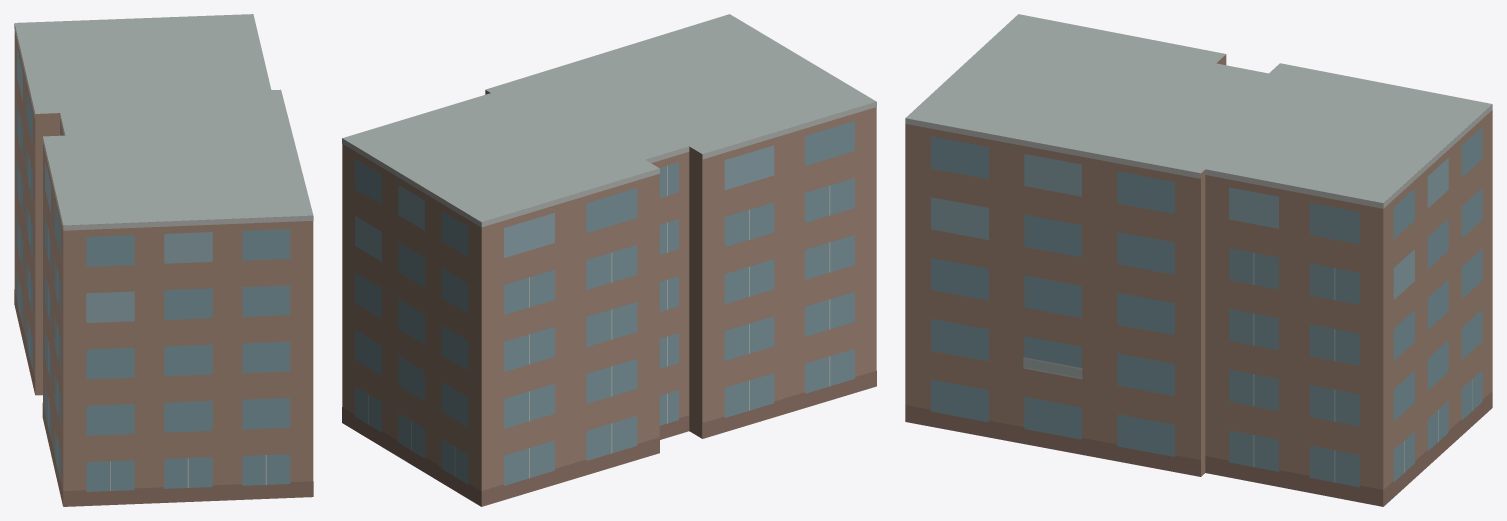
Rendered from survey-upis-32747365.glb.
3 renders of one model, left to right at view 1: azimuth 30°, elevation 25°; view 2: azimuth 150°, elevation 25°; view 3: azimuth 270°, elevation 25°, orthographic. The views are drawn at different scales.
Parts seen in each view (by area): view 1: survey-upis-32747365.tmp; view 2: survey-upis-32747365.tmp; view 3: survey-upis-32747365.tmp.
Boxes of the visible parts, box(x1,y1,x2,y2) form: survey-upis-32747365.tmp: box(14, 14, 313, 506); survey-upis-32747365.tmp: box(342, 14, 876, 506); survey-upis-32747365.tmp: box(905, 14, 1492, 506).
Bounding box in the file's own units: 17.58 × 13.15 × 23.06.
